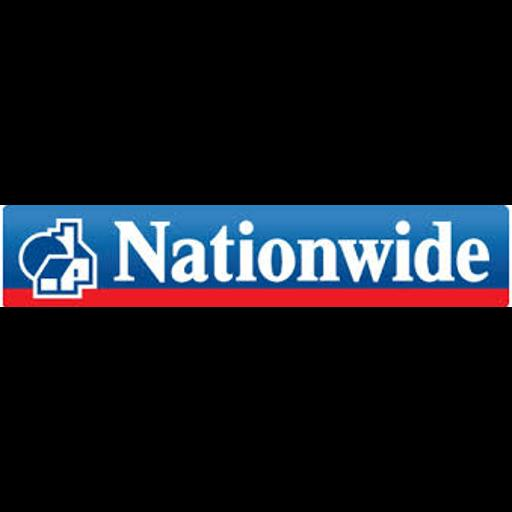Nationwide Building Society: (0, 205, 512, 307)
